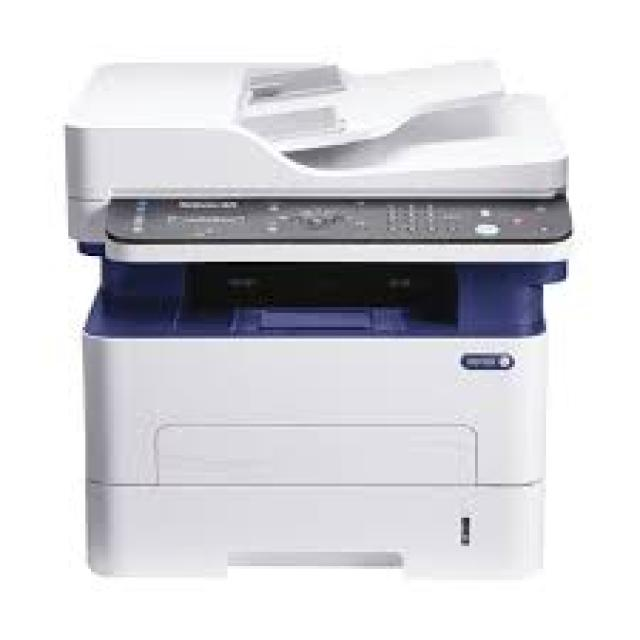printer: (55, 39, 581, 610)
